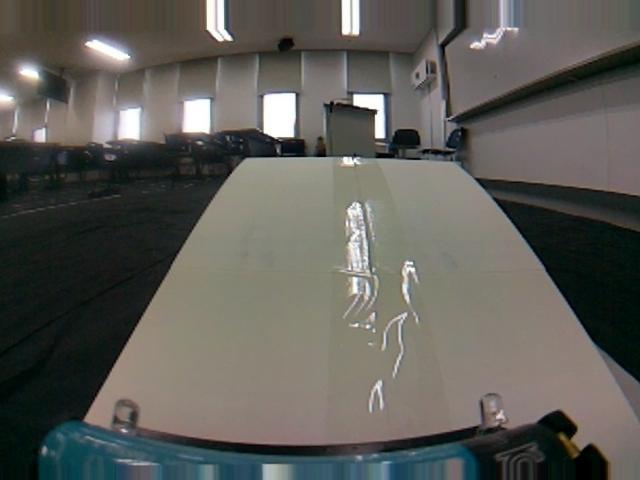hill_up: (70, 155, 633, 443)
